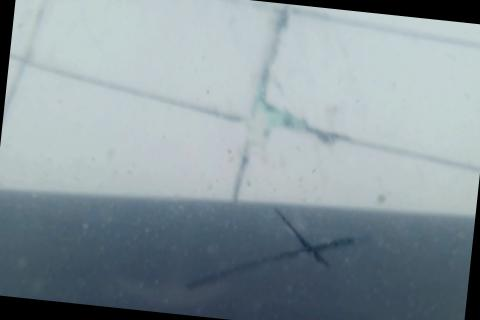keretakan: (182, 199, 370, 315)
